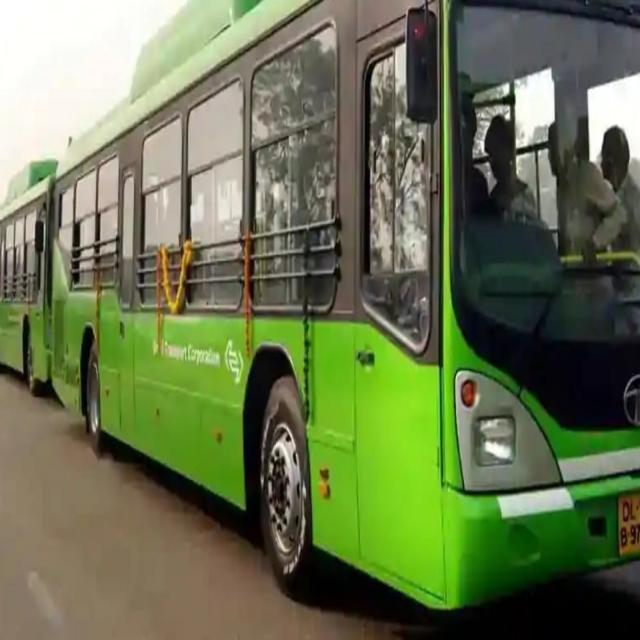bus: (57, 0, 640, 589)
